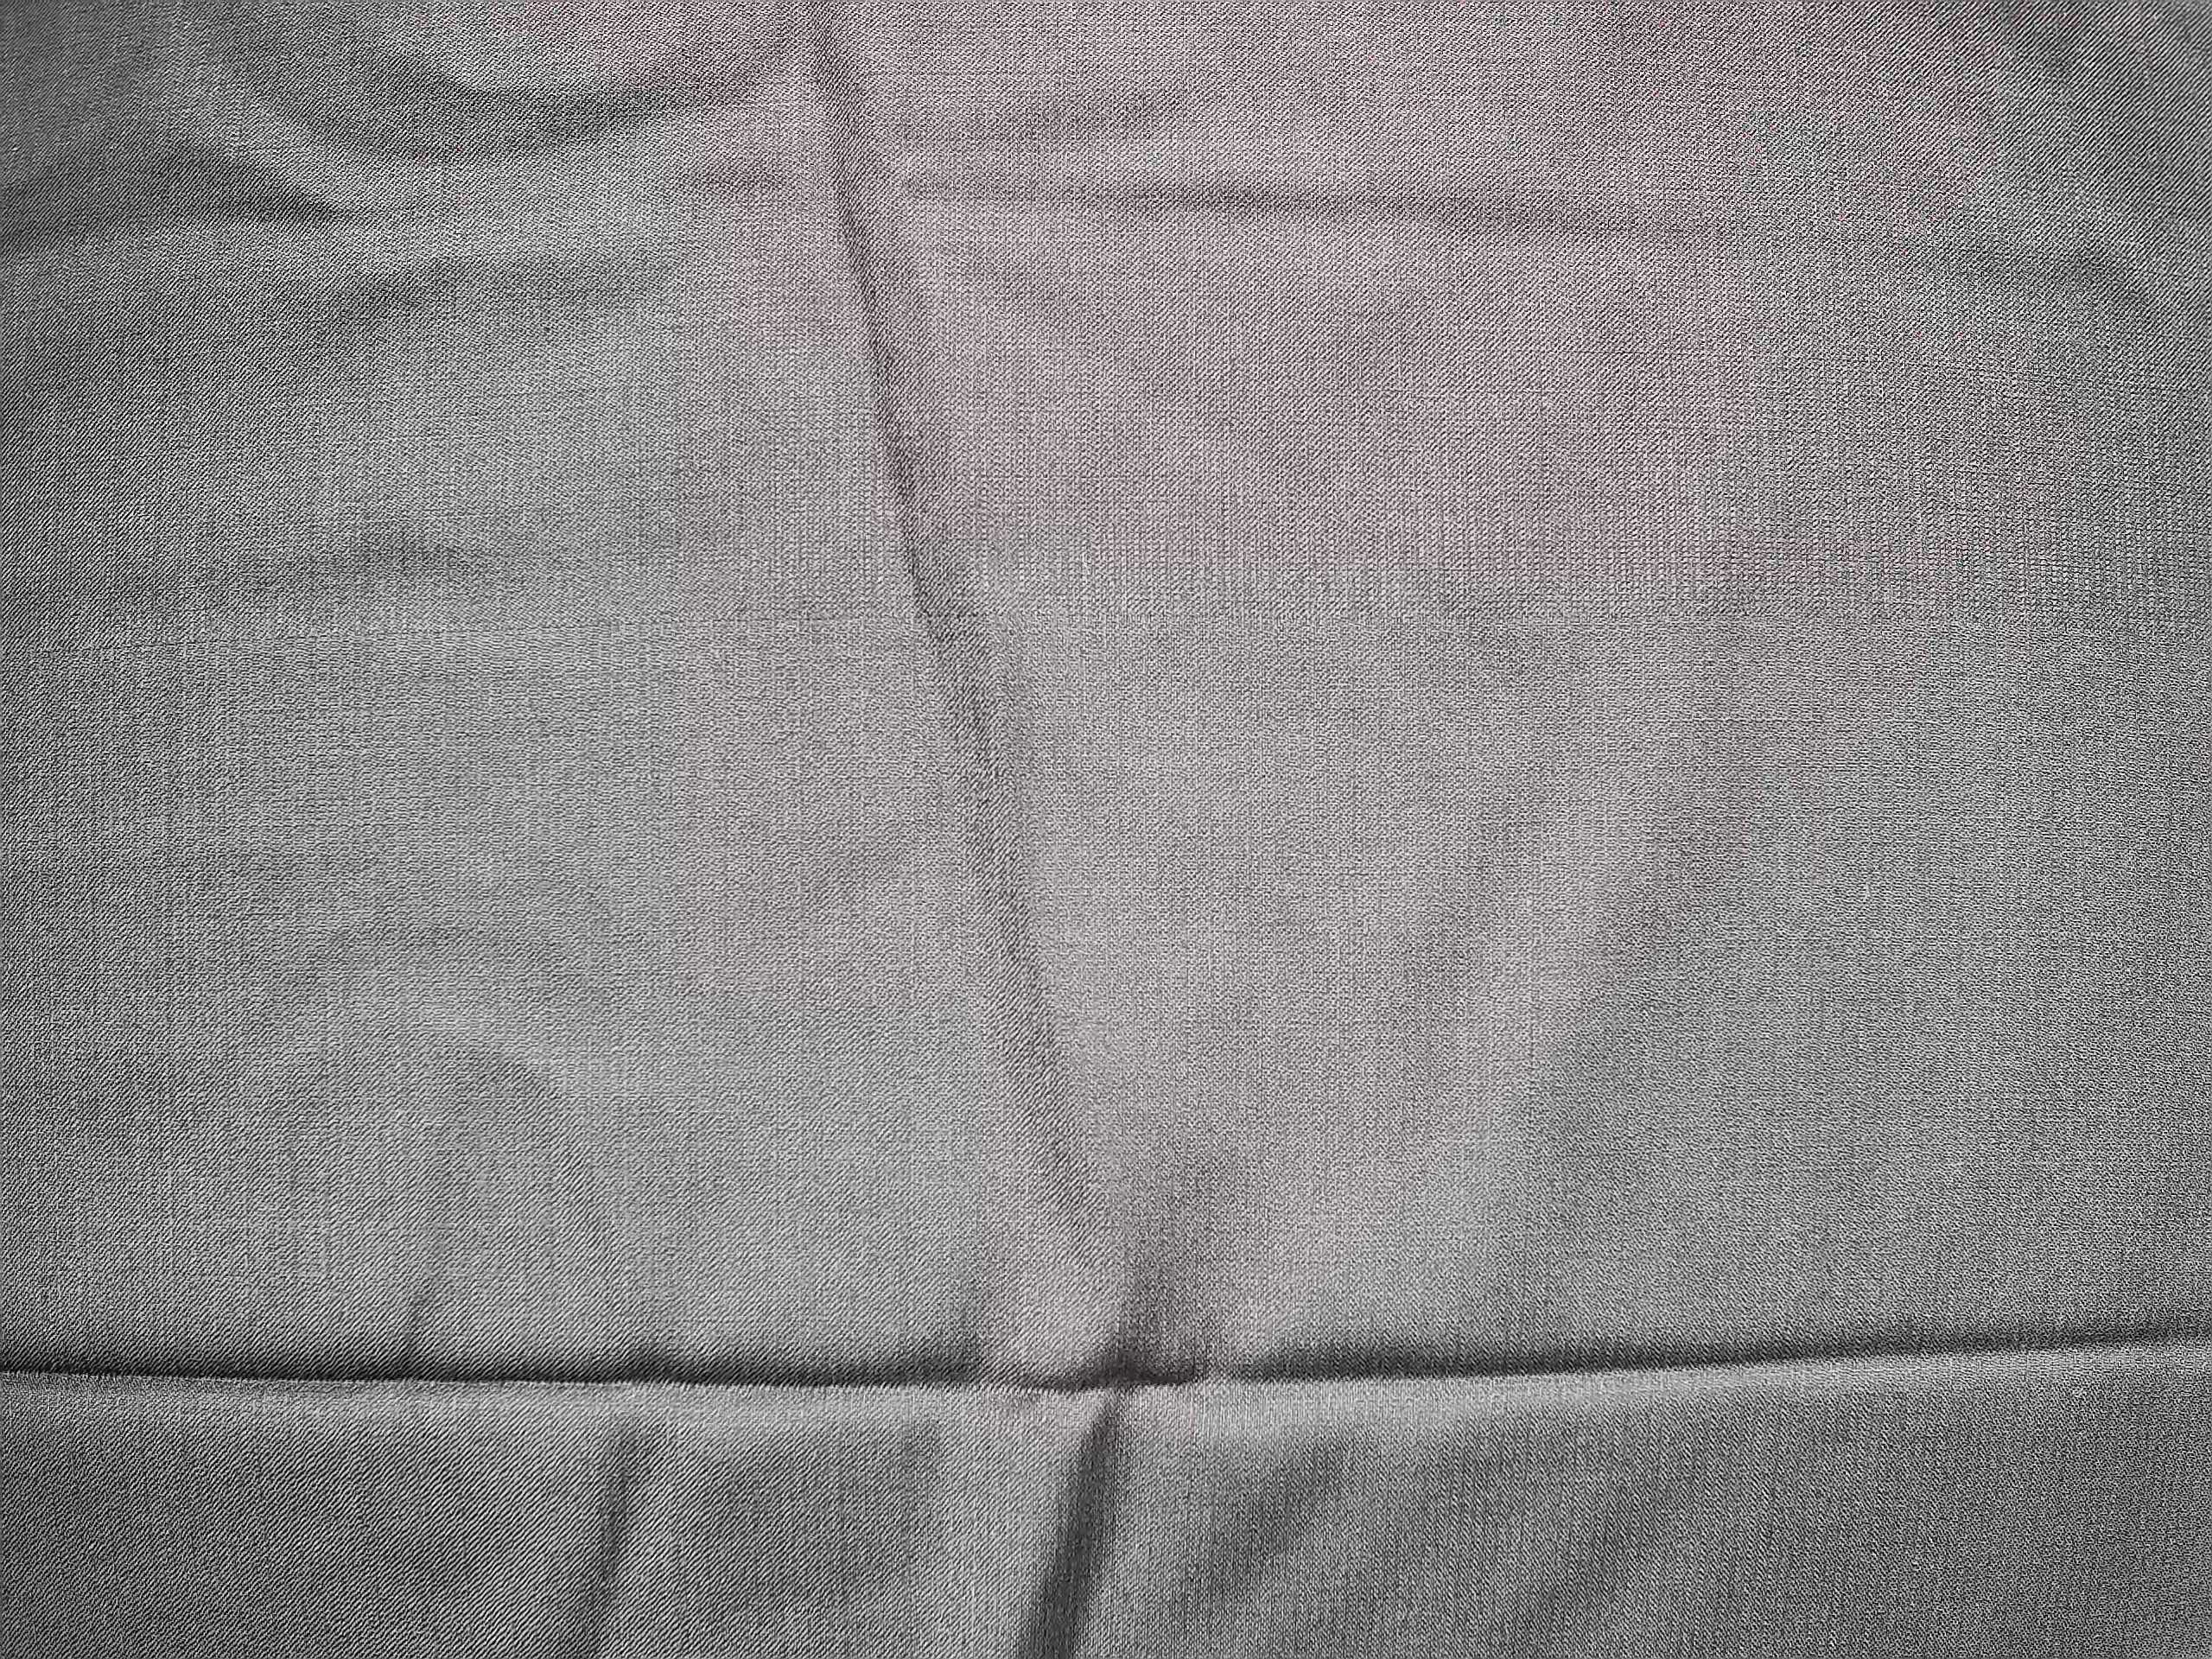jumps: (960, 591, 2207, 1347)
